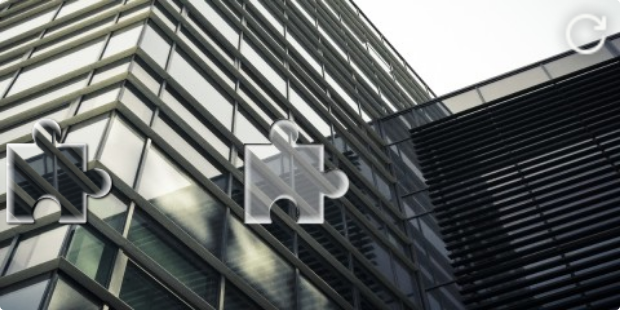target: (244, 119, 349, 223)
